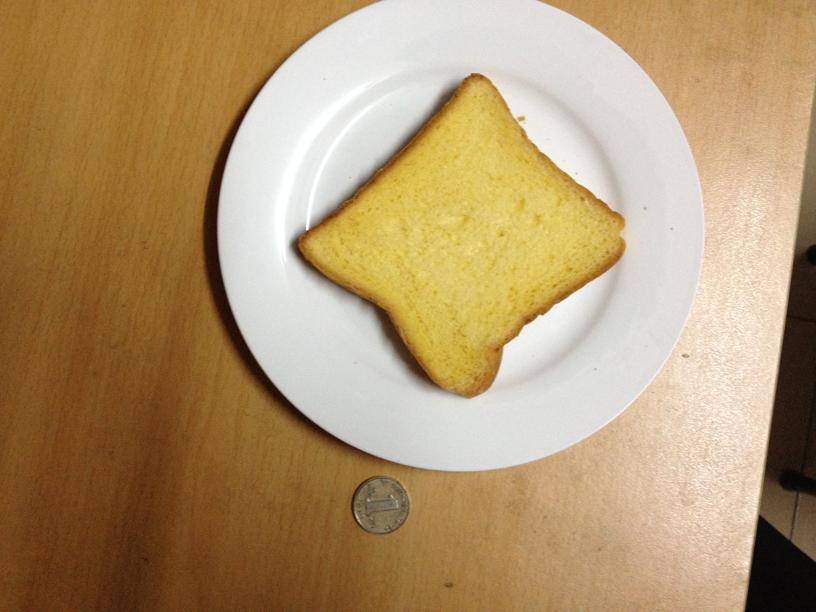bread: (294, 68, 624, 398)
coin: (352, 475, 409, 533)
